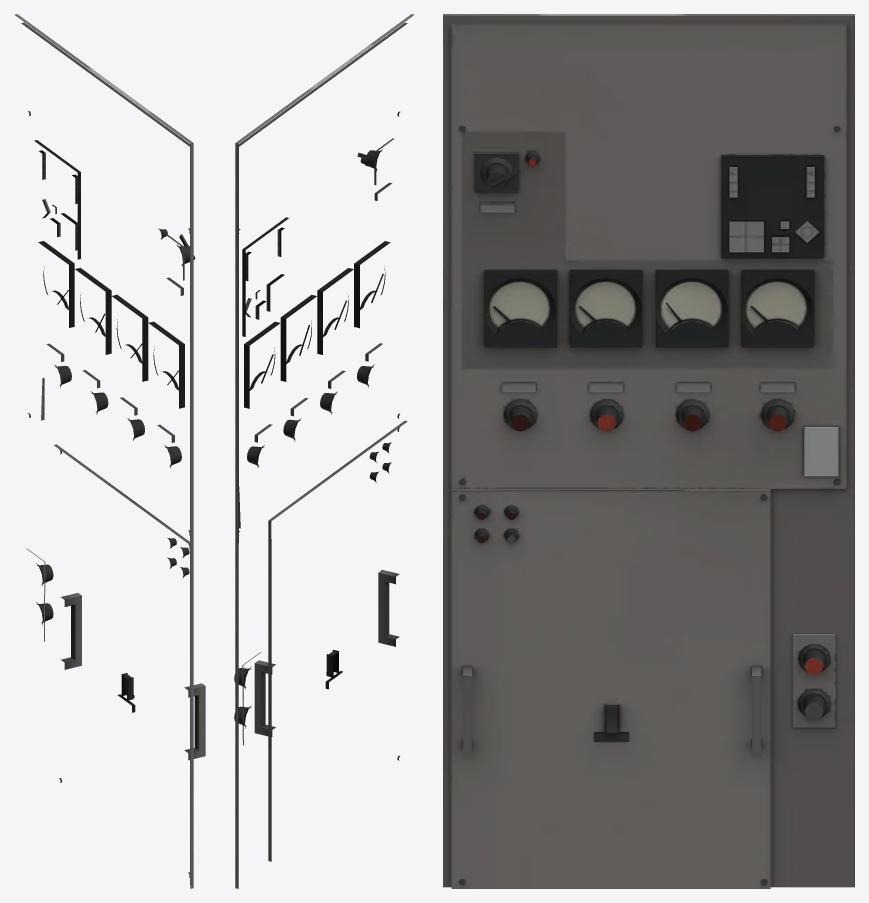
3 renders of one model, left to right at view 1: azimuth 30°, elevation 25°; view 2: azimuth 150°, elevation 25°; view 3: azimuth 270°, elevation 25°, orthographic. The views are drawn at different scales.
Parts seen in each view (by area): view 1: body0_model0_lod0_mesh0; view 2: body0_model0_lod0_mesh0; view 3: body0_model0_lod0_mesh0.
Part boxes in pixels (x1,y1,x2,y2): body0_model0_lod0_mesh0: [14, 14, 205, 888]; body0_model0_lod0_mesh0: [234, 14, 414, 888]; body0_model0_lod0_mesh0: [443, 14, 854, 888].
Size of the model in its own units: 3.79 by 112 by 47.99.
Materials: 1 (1 with a texture image).
